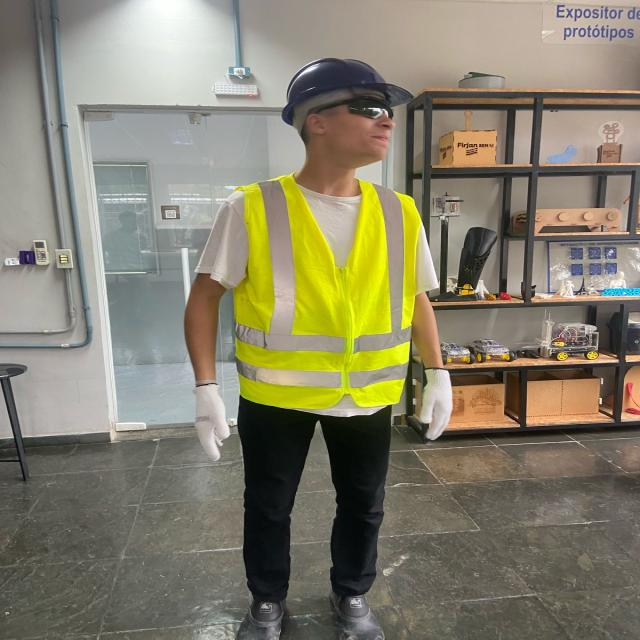BOTA: (327, 567, 392, 638), (222, 591, 288, 636)
CAPACETE: (281, 58, 421, 127)
COLETE: (232, 167, 418, 410)
LUVA: (408, 367, 460, 443), (190, 376, 235, 460)
OCULOS: (302, 96, 396, 128)
